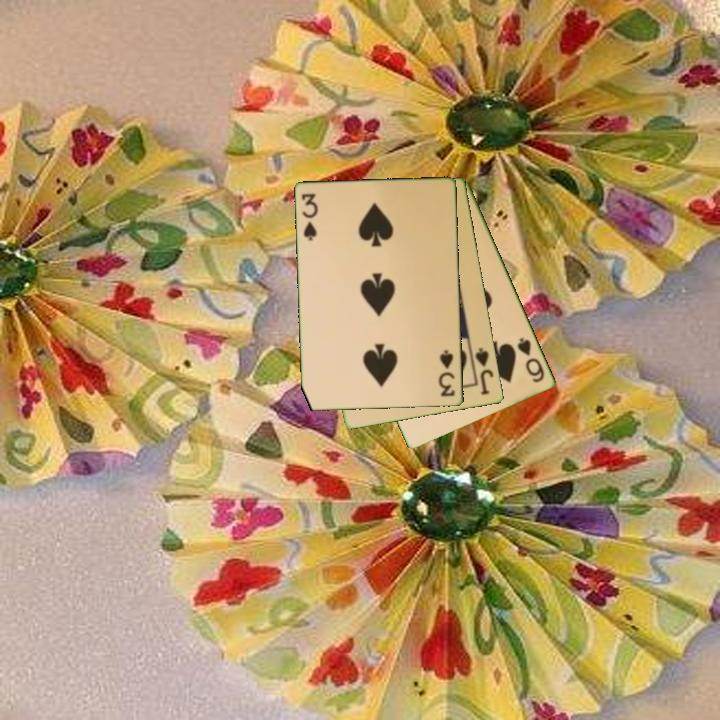3s: (299, 190, 321, 244), (436, 347, 458, 400)
6s: (514, 334, 548, 386)
Js: (472, 344, 497, 398)
